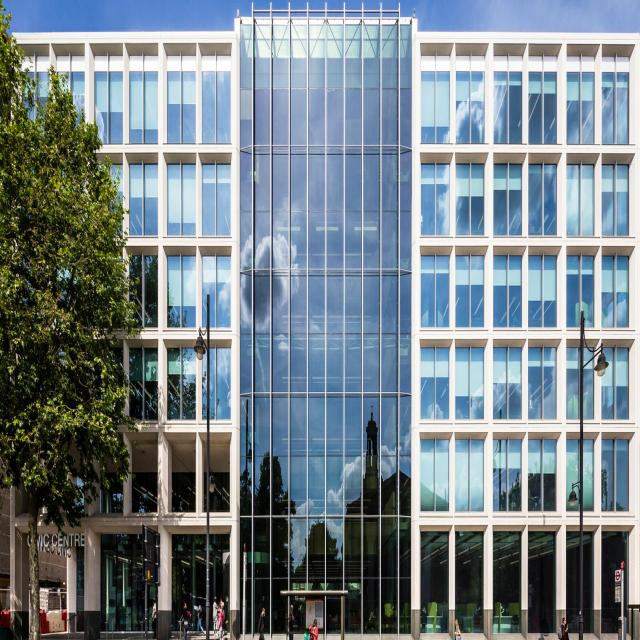window: (241, 25, 411, 634), (102, 531, 157, 629), (173, 536, 228, 629), (421, 531, 450, 633), (493, 533, 522, 635), (528, 533, 557, 635), (563, 533, 592, 635), (600, 535, 629, 637), (456, 531, 484, 633), (129, 54, 159, 146), (94, 52, 124, 144), (202, 57, 231, 145), (168, 54, 196, 143), (202, 163, 232, 235), (167, 164, 196, 238), (167, 254, 196, 328), (202, 253, 232, 324), (128, 254, 158, 325), (420, 69, 450, 140), (454, 72, 484, 143), (528, 74, 558, 145), (166, 349, 196, 419), (492, 438, 521, 510), (421, 256, 450, 328), (604, 159, 633, 231), (530, 160, 559, 232), (457, 161, 486, 233), (423, 162, 452, 234), (130, 164, 158, 238), (202, 346, 231, 417), (528, 439, 557, 510), (565, 439, 594, 510), (421, 347, 450, 418), (455, 346, 484, 417), (602, 346, 631, 417), (602, 254, 631, 325), (455, 255, 484, 326), (493, 73, 522, 144), (566, 73, 595, 144), (601, 75, 630, 146), (130, 345, 158, 418), (421, 439, 449, 511), (455, 438, 483, 510), (602, 439, 630, 511), (529, 346, 557, 418), (566, 254, 594, 326), (568, 159, 596, 231), (495, 160, 523, 232), (493, 346, 521, 417), (566, 346, 594, 417), (529, 255, 557, 326), (493, 255, 521, 326), (56, 67, 84, 109), (131, 472, 157, 513), (204, 471, 229, 511), (173, 470, 196, 512), (37, 69, 49, 103), (106, 491, 122, 512)
